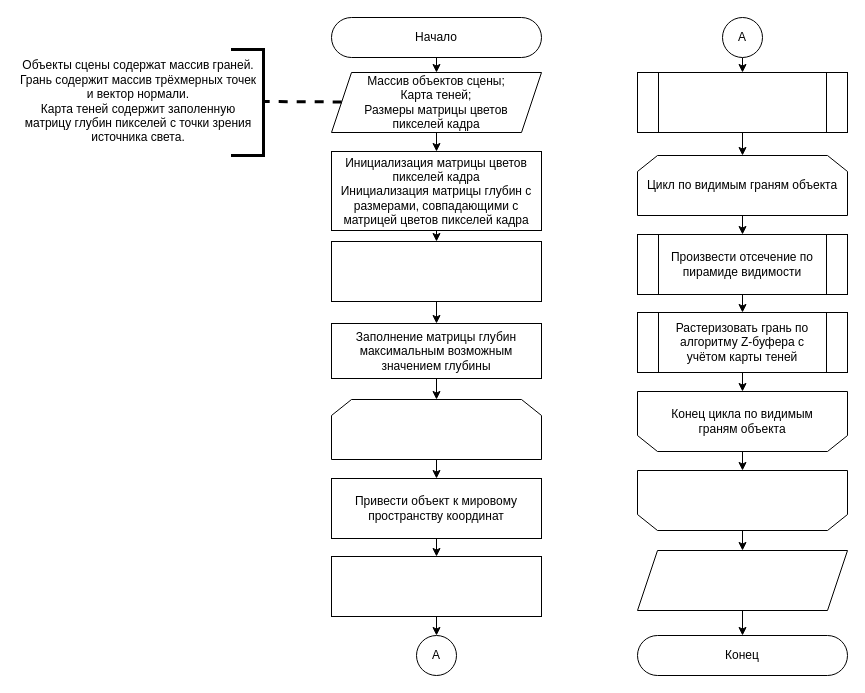
This 865x693 diagram has some shape labels left out. The shapes that lost their labels are listed below. From the top down, each one's box as (x1, y1, x2, y2) in pixels, then its label:
(636, 72, 848, 132): Произвести удаление невидимых граней объекта
(330, 240, 542, 302): Заполнение матрицы цветов пикселей кадра чёрным цветом
(330, 398, 542, 460): Цикл по объектам сцены
(636, 470, 848, 530): Конец цикла по объектам сцены
(330, 556, 542, 616): Привести объект к пространству координат камеры
(636, 550, 848, 610): Заполненная матрица цветов пикселей кадра
